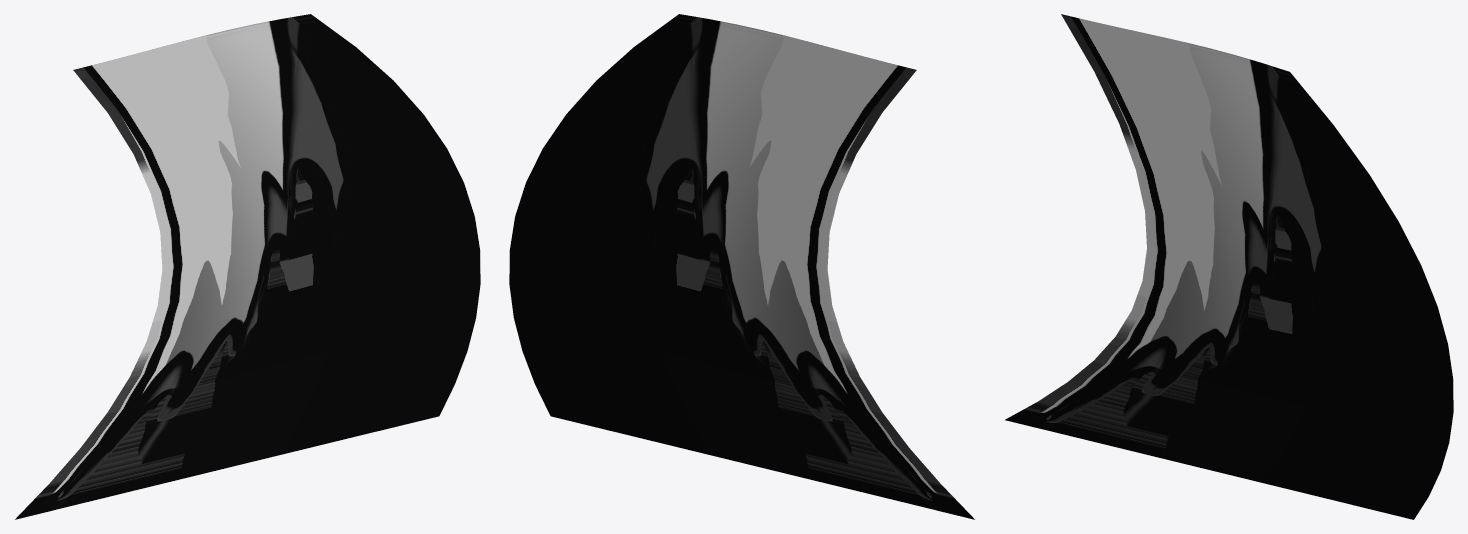
Rendered from eff_mesh_j_heisimou_02.glb.
The picture shows the model from 3 angles, left to right: view 1: azimuth 30°, elevation 25°; view 2: azimuth 150°, elevation 25°; view 3: azimuth 330°, elevation 25°; orthographic projection. The views are drawn at different scales.
Parts seen in each view (by area): view 1: eff_mesh_j_heisimou_02; view 2: eff_mesh_j_heisimou_02; view 3: eff_mesh_j_heisimou_02.
Boxes of the visible parts, bbox=[...] form: eff_mesh_j_heisimou_02: bbox=[15, 14, 480, 519]; eff_mesh_j_heisimou_02: bbox=[509, 14, 974, 519]; eff_mesh_j_heisimou_02: bbox=[1005, 14, 1453, 519].
Size of the model in its own units: 4.41 by 3.96 by 1.17e-05.
1 material, 1 textured.
